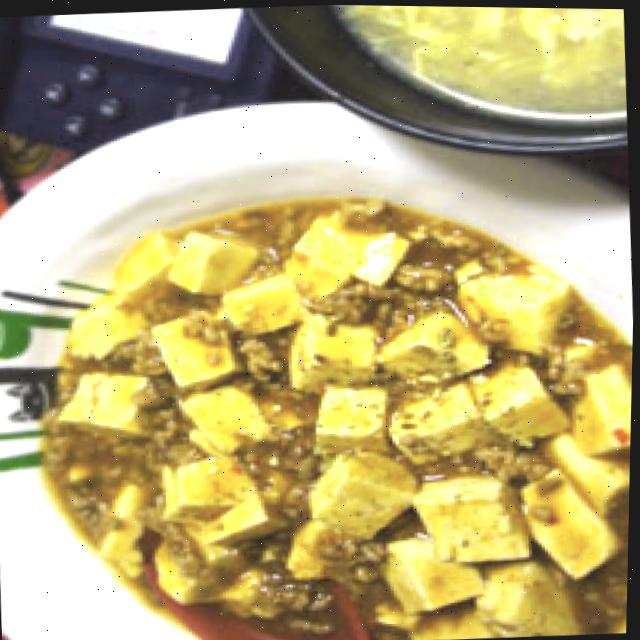豆腐料理: (0, 78, 639, 640)
